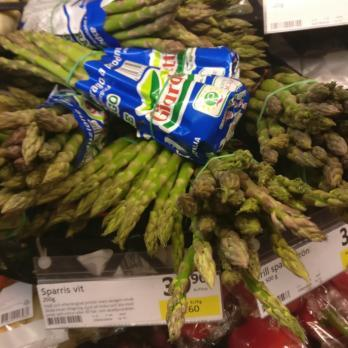Asparagus: (204, 146, 343, 276), (90, 127, 202, 266), (0, 86, 88, 251), (238, 36, 348, 168), (100, 0, 261, 41), (0, 26, 88, 81)
